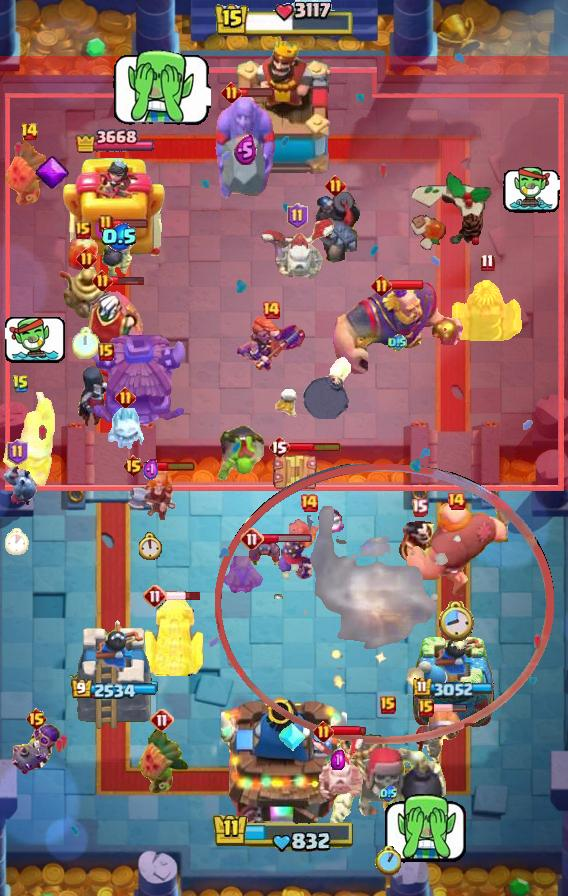bar: (143, 460, 196, 472), (289, 441, 342, 453), (262, 533, 313, 544), (165, 590, 202, 602), (331, 725, 367, 737), (389, 279, 425, 291), (110, 274, 145, 286), (112, 218, 149, 229), (239, 87, 275, 98), (432, 703, 468, 713)
bar-level: (150, 708, 174, 732), (143, 584, 167, 608), (240, 527, 264, 551), (25, 707, 48, 731), (122, 454, 145, 478), (7, 439, 28, 465), (287, 203, 308, 229), (268, 435, 290, 459), (313, 721, 334, 742), (115, 387, 136, 408), (371, 275, 392, 296), (92, 270, 113, 291), (76, 248, 97, 269), (325, 175, 346, 196), (221, 82, 242, 103), (299, 493, 319, 513), (446, 491, 466, 511), (261, 300, 281, 320), (20, 122, 39, 142), (12, 374, 30, 394), (411, 498, 428, 517), (98, 214, 114, 234), (418, 699, 434, 717), (380, 696, 396, 714), (98, 343, 114, 361), (75, 221, 91, 239), (480, 253, 495, 272)
bat: (248, 538, 284, 570)
bomb: (302, 357, 354, 419)
bomber: (101, 227, 137, 281)
bomber-evolution: (10, 723, 62, 779)
clock: (438, 601, 474, 643), (72, 327, 100, 359), (375, 846, 401, 875), (139, 532, 163, 560), (5, 528, 29, 555)
dart-goblin: (134, 726, 190, 798), (1, 138, 57, 210)
electro-wizard: (398, 519, 440, 567)
elixir: (101, 223, 138, 251), (234, 135, 257, 165), (143, 458, 159, 482), (388, 334, 407, 351), (380, 785, 397, 802), (331, 750, 345, 770)
emote: (112, 47, 211, 126), (382, 794, 471, 864), (5, 315, 67, 366), (503, 167, 560, 213)
evolution-symbol: (34, 155, 69, 191)
fire-spirit: (68, 234, 98, 272)
goblin: (219, 556, 263, 598)
goblin-ball: (217, 422, 267, 482)
ice-spirit: (104, 406, 146, 450)
ice-spirit-evolution-symbol: (277, 722, 307, 752)
king-tower: (221, 690, 347, 826), (228, 41, 340, 181)
king-tower-bar: (212, 812, 356, 854), (213, 0, 355, 40)
knight: (0, 392, 56, 489)
minion: (0, 465, 42, 507)
night-witch: (75, 356, 137, 428)
queen-tower: (62, 156, 166, 256), (70, 616, 158, 731), (411, 627, 495, 731)
skeleton: (273, 386, 301, 422)
tesla: (142, 592, 204, 676), (452, 276, 522, 344), (269, 450, 319, 496)
tower-bar: (75, 126, 154, 157), (71, 679, 158, 701), (413, 677, 494, 698)
valkyrie: (125, 469, 177, 521)
valkyrie-evolution: (275, 507, 344, 581), (235, 315, 307, 373)
wall-breaker: (413, 705, 463, 773)
zappy: (60, 267, 112, 321)
